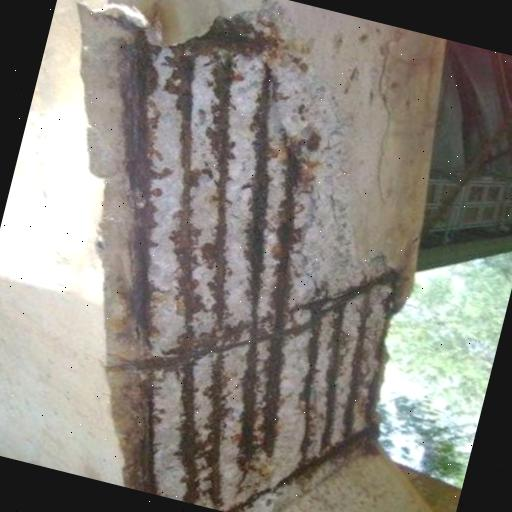spalling: (74, 0, 398, 512)
